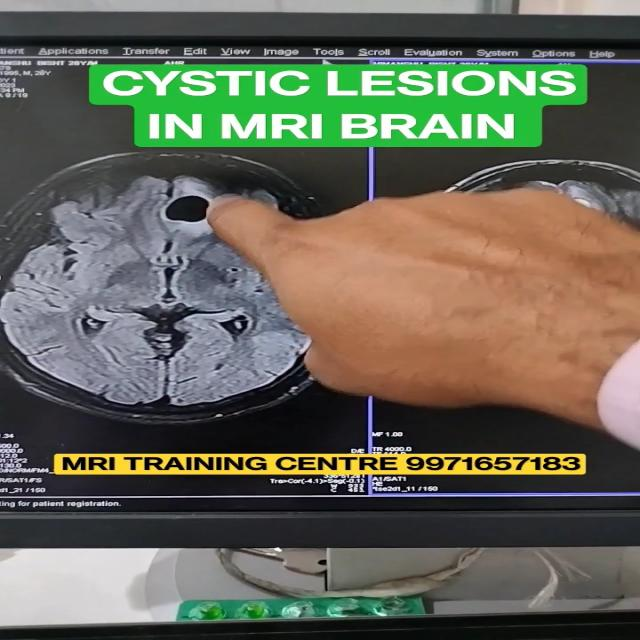tumor: (143, 174, 266, 265)
